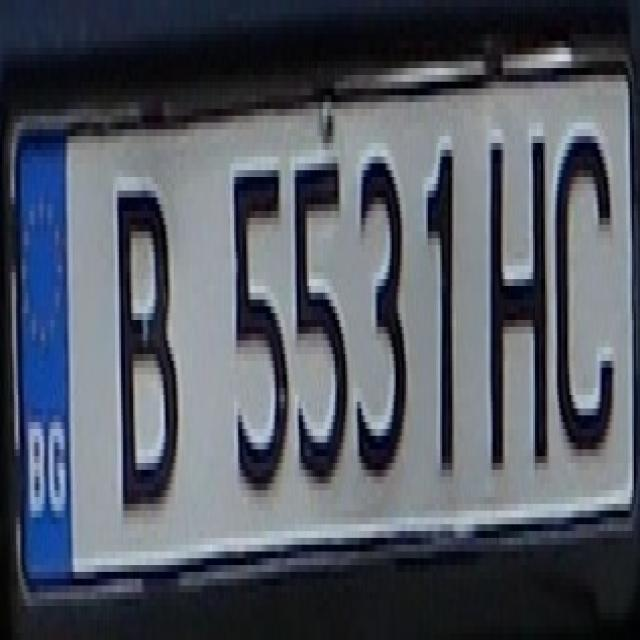1: (416, 116, 462, 483)
3: (349, 122, 406, 476)
5: (222, 143, 297, 497), (282, 136, 352, 490)
B: (107, 164, 182, 511)
C: (545, 109, 620, 463)
H: (478, 102, 546, 477)
